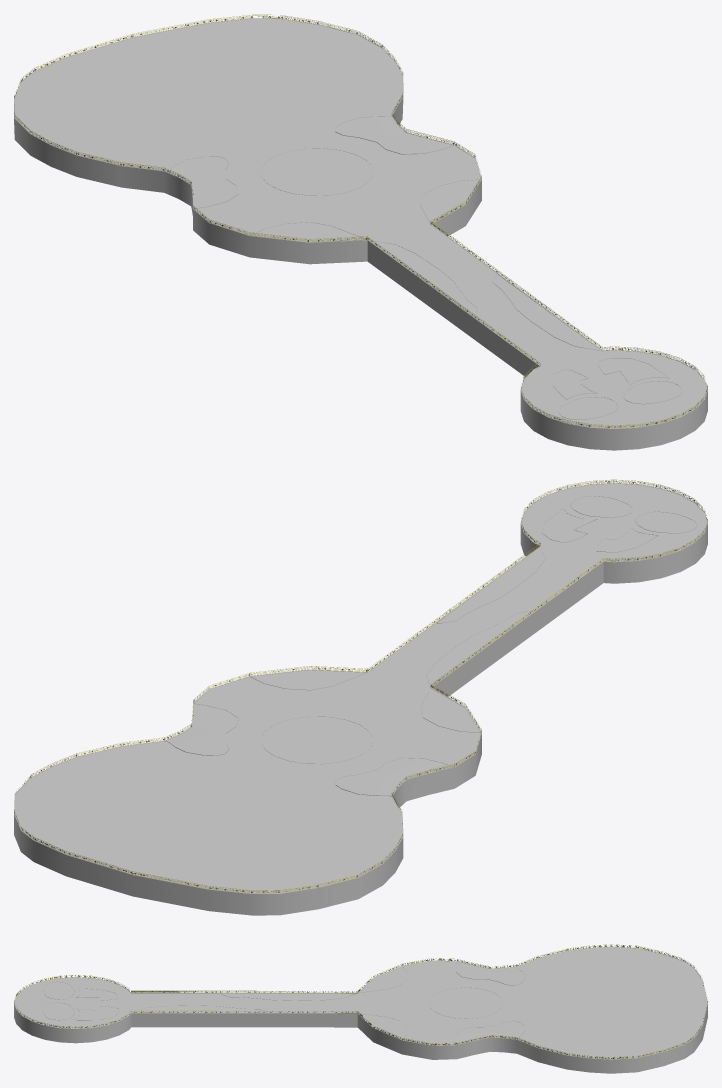
File: Island5_Gitaar.fbx
3 renders of one model, top to bottom at view 1: azimuth 30°, elevation 25°; view 2: azimuth 150°, elevation 25°; view 3: azimuth 270°, elevation 25°, orthographic. The views are drawn at different scales.
Parts seen in each view (by area): view 1: IslandGUtar.A.001, GrassPatches(Grass), IslandGUtar.A.003, Fence.002, GrassPatches(edge), IslandGUtar.A.002, MusicNote.002; view 2: IslandGUtar.A.001, GrassPatches(Grass), IslandGUtar.A.003, Fence.002, GrassPatches(edge), IslandGUtar.A.002; view 3: IslandGUtar.A.001, IslandGUtar.A.003, GrassPatches(Grass), Fence.002, GrassPatches(edge), IslandGUtar.A.002, MusicNote.002.
Boxes of the visible parts, x1,y1,x2,y2 form: IslandGUtar.A.001: [14, 18, 706, 428]; GrassPatches(Grass): [166, 116, 682, 419]; IslandGUtar.A.003: [14, 83, 707, 450]; Fence.002: [14, 14, 706, 428]; GrassPatches(edge): [165, 115, 682, 419]; IslandGUtar.A.002: [14, 18, 707, 429]; MusicNote.002: [14, 16, 707, 427]; IslandGUtar.A.001: [14, 483, 707, 893]; GrassPatches(Grass): [166, 496, 696, 795]; IslandGUtar.A.003: [14, 523, 707, 915]; Fence.002: [14, 479, 707, 893]; GrassPatches(edge): [165, 495, 697, 796]; IslandGUtar.A.002: [14, 483, 707, 894]; IslandGUtar.A.001: [14, 947, 707, 1059]; IslandGUtar.A.003: [14, 1004, 707, 1073]; GrassPatches(Grass): [43, 961, 524, 1044]; Fence.002: [14, 944, 707, 1059]; GrassPatches(edge): [43, 961, 525, 1044]; IslandGUtar.A.002: [14, 946, 707, 1059]; MusicNote.002: [14, 945, 707, 1058].
Size of the model in its own units: 8670 by 595 by 22507.
